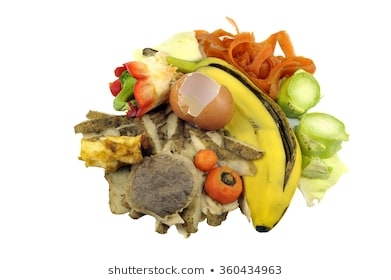kitchen_waste: (138, 39, 299, 241), (192, 11, 319, 100), (120, 149, 198, 224), (100, 56, 177, 119), (165, 68, 235, 129), (286, 108, 356, 159), (274, 64, 330, 122), (78, 130, 141, 175), (201, 164, 243, 203), (189, 144, 227, 171)
